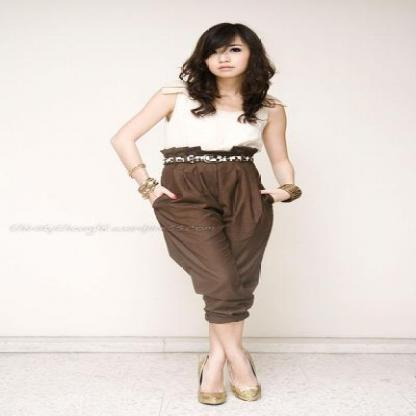pants: (152, 159, 273, 323)
shirt: (160, 94, 260, 150)
shoe: (198, 374, 260, 405)
